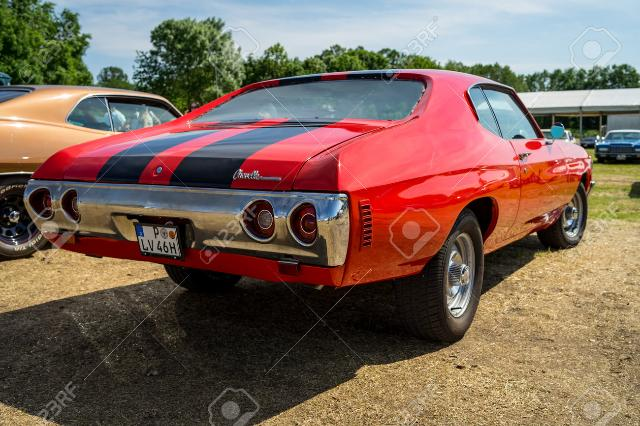chevelle-1972: (24, 69, 593, 342)
